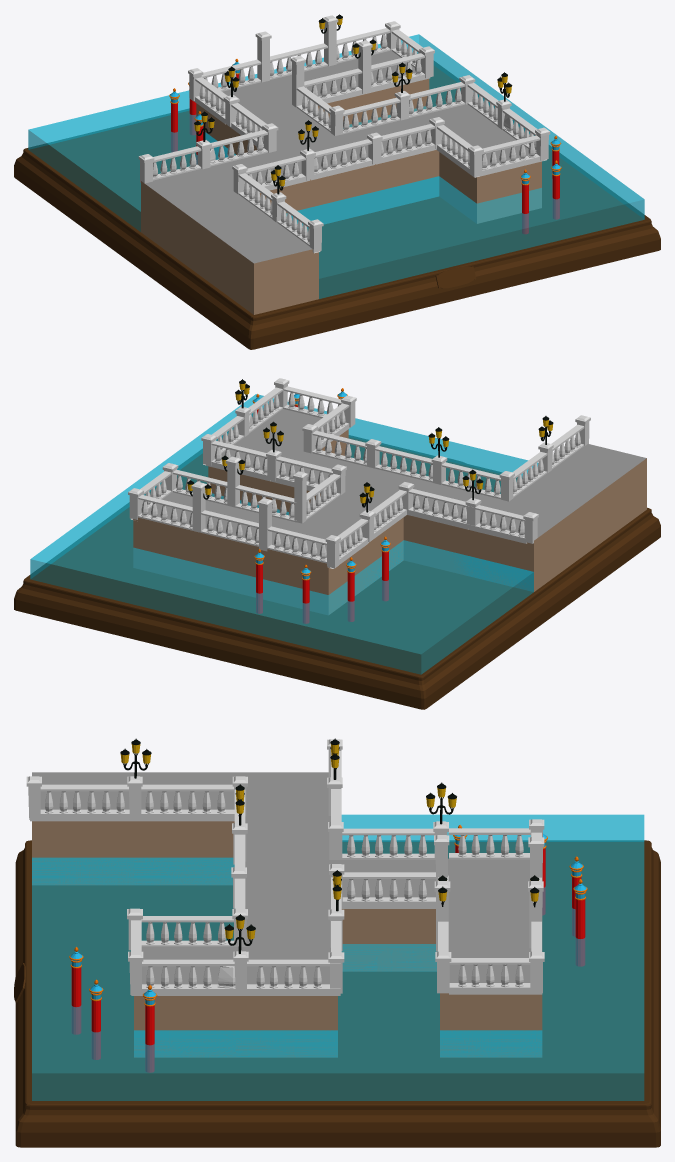
The model's file is lvl5.FBX.
3 views of the same model, one above another, from view 1: azimuth 30°, elevation 25°; view 2: azimuth 150°, elevation 25°; view 3: azimuth 270°, elevation 25° (orthographic). The views are drawn at different scales.
Parts seen in each view (by area): view 1: Object088; view 2: Object088; view 3: Object088.
Part boxes in pixels (x1,y1,x2,y2): Object088: (14,14,660,349); Object088: (14,378,660,709); Object088: (14,738,660,1147).
Bounding box in the file's own units: 349 × 110 × 350.
